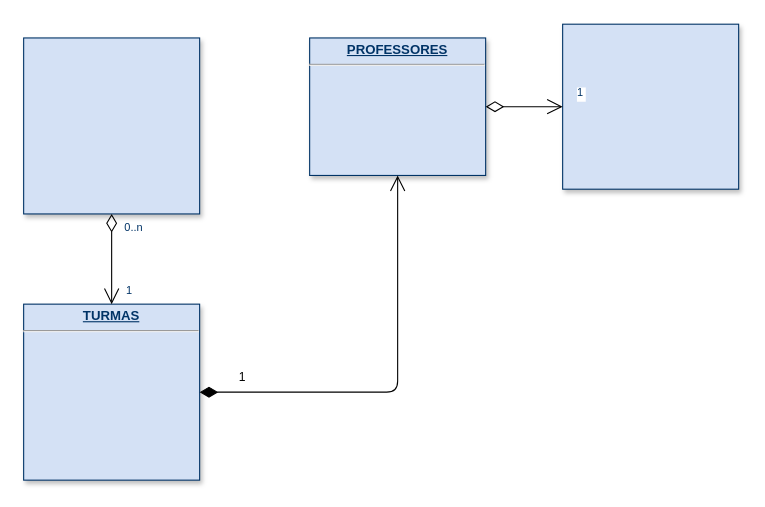
Some shapes in this 765 by 507 pixel diagram are drawn without their labels. Here are the shapes that lost their labels. From the top down, the centre of each, then its label:
At (112,127): "ESCOLA".
At (651,108): "SALAS".
